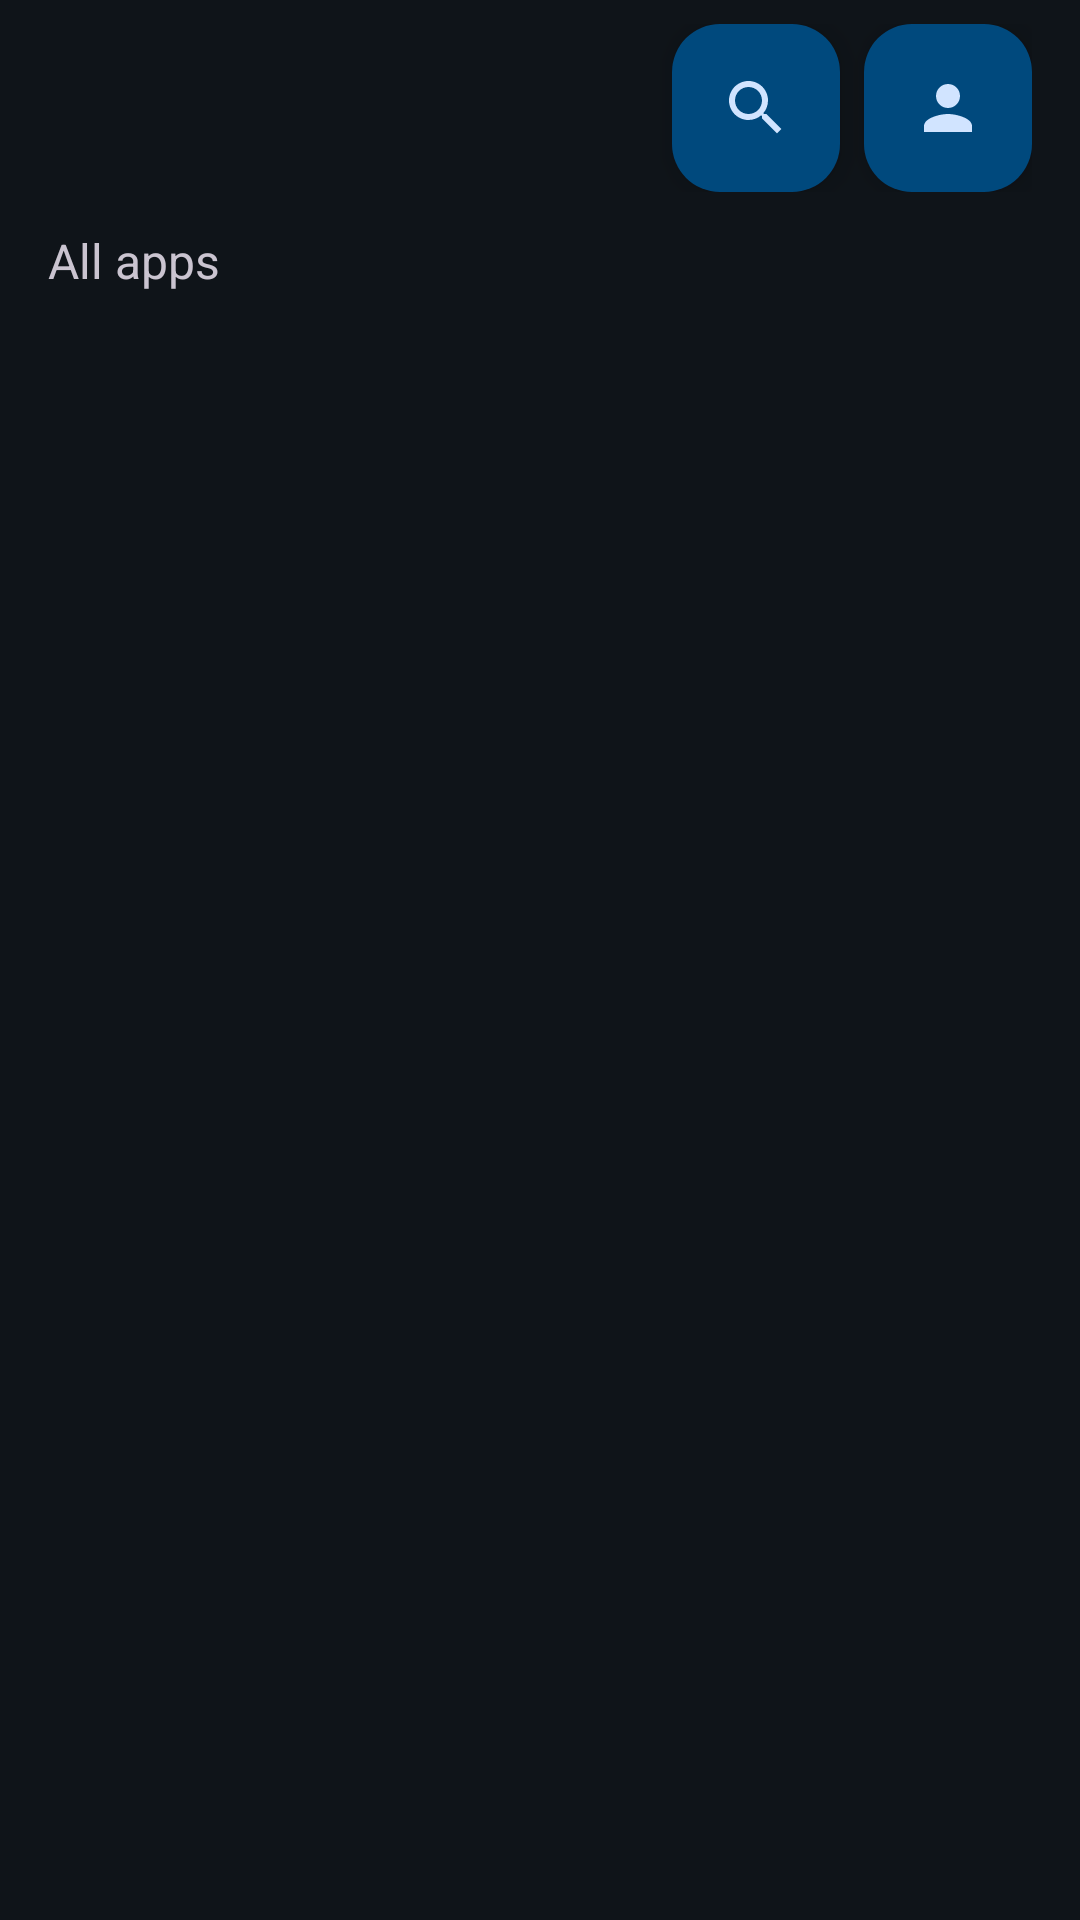

Named icons in this screenshot (1080px x 1920px) and their centers, (x=x, y=y):
Choose Profile: (x=948, y=108)
Search: (x=756, y=108)
